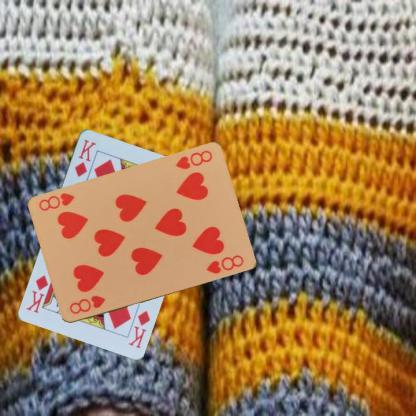8h: (173, 148, 213, 171), (66, 293, 107, 315)
Kd: (126, 308, 152, 350), (72, 136, 97, 178)
